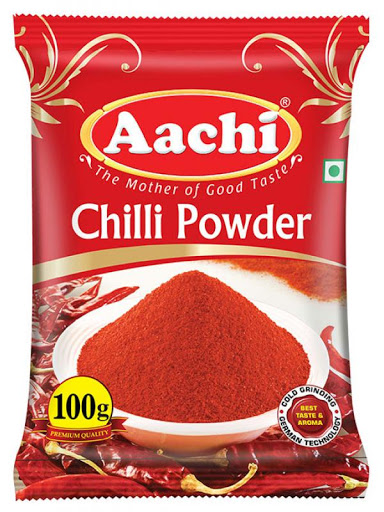VEG: (321, 157, 347, 182)
